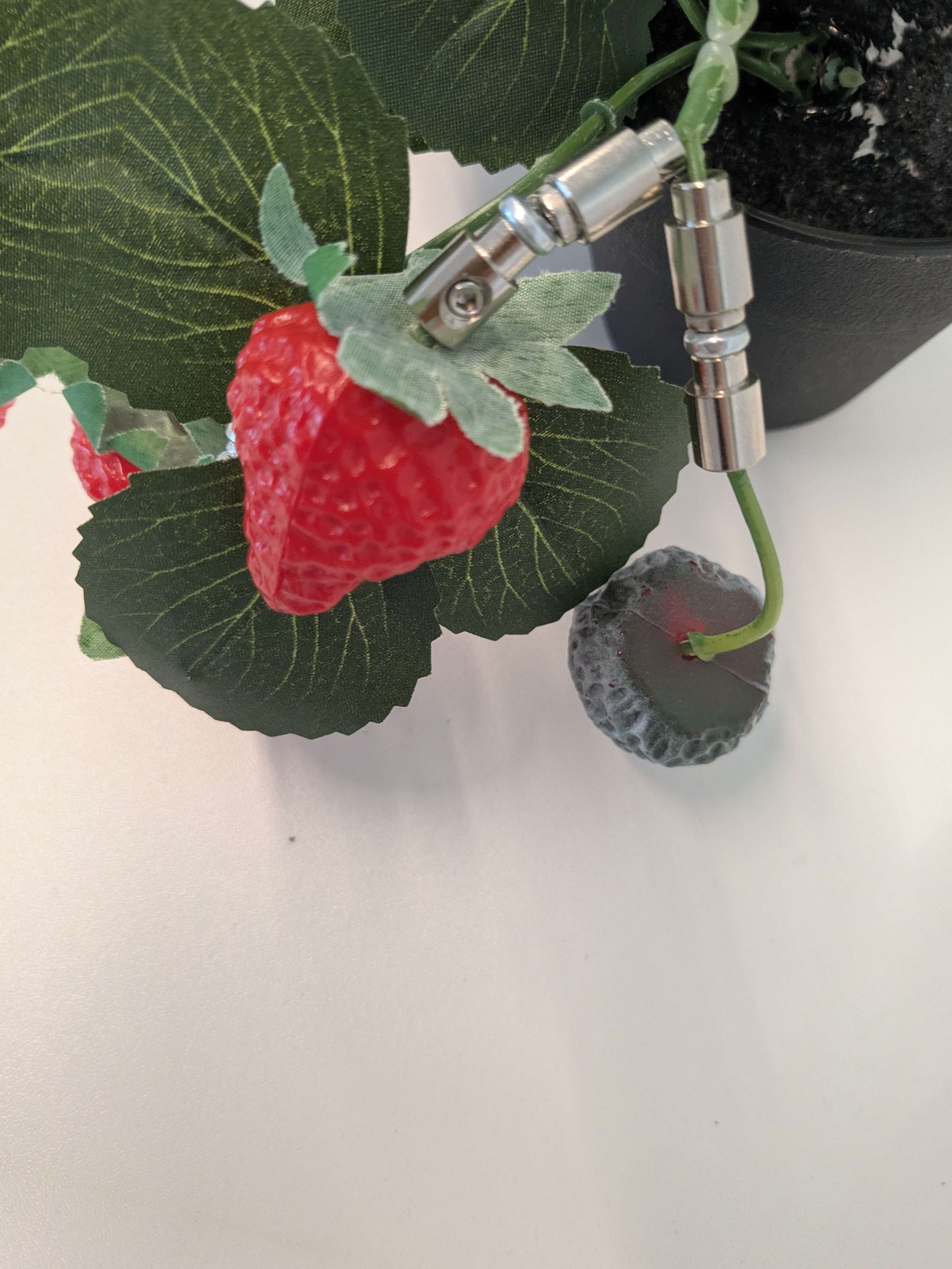Strawberry: (147, 212, 579, 704), (43, 389, 175, 534)
